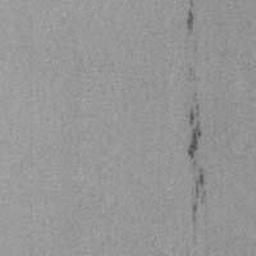Inclusion: (187, 102, 207, 224), (186, 0, 195, 38), (187, 65, 197, 83)
